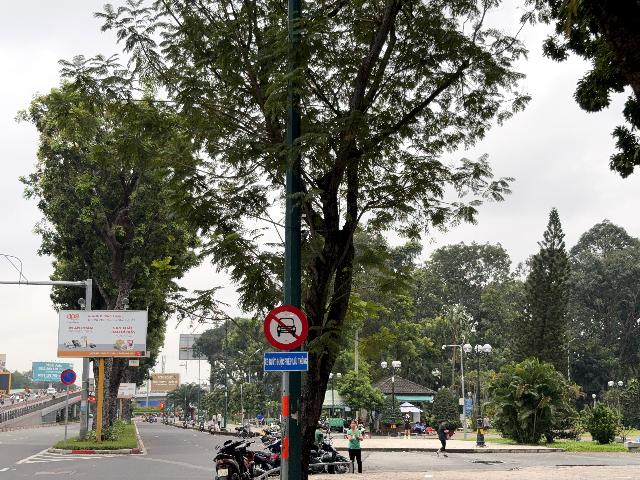cam-o-to: (263, 305, 308, 350)
